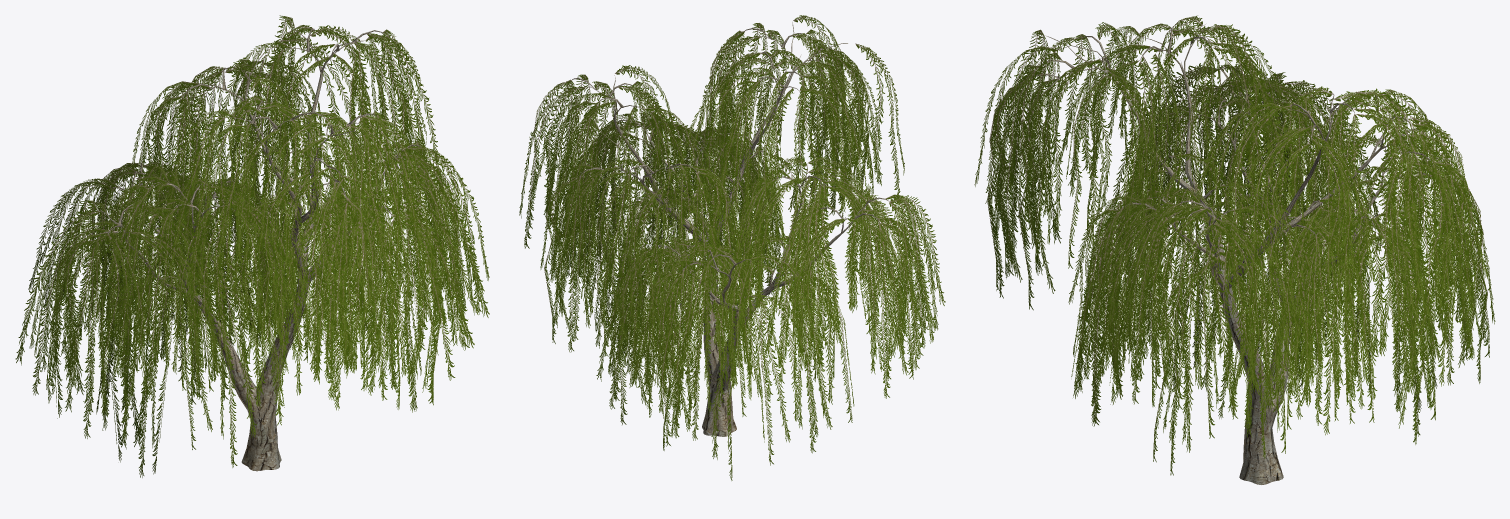
Rendered from sauce.glb.
3 renders of one model, left to right at view 1: azimuth 30°, elevation 25°; view 2: azimuth 150°, elevation 25°; view 3: azimuth 270°, elevation 25°, orthographic. The views are drawn at different scales.
Visible parts, largest first — view 1: willow branch_1, bark10_0; view 2: willow branch_1, bark10_0; view 3: willow branch_1, bark10_0.
Boxes of the visible parts, x1,y1,x2,y2 form: willow branch_1: [15, 15, 489, 477]; bark10_0: [97, 28, 420, 471]; willow branch_1: [519, 15, 945, 480]; bark10_0: [572, 22, 888, 436]; willow branch_1: [974, 15, 1495, 475]; bark10_0: [1030, 24, 1432, 484].
Size of the model in its own units: 8.3 by 7.73 by 8.1.
2 materials, 2 textured.
